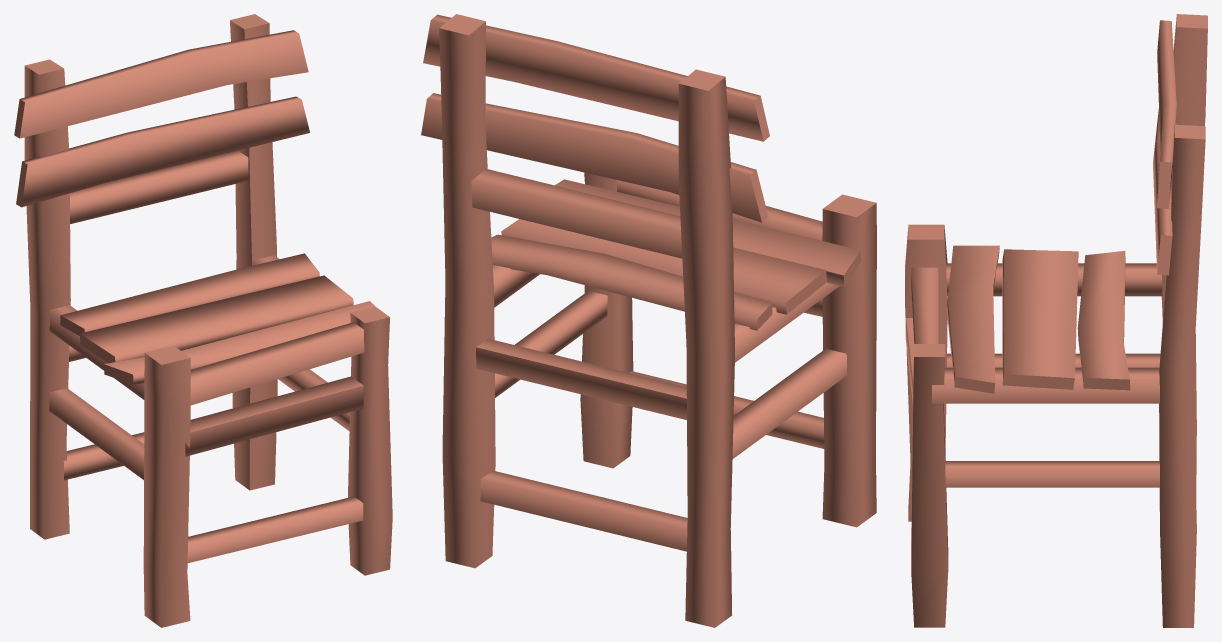
The model's file is chair_02.fbx.
The picture shows the model from 3 angles, left to right: view 1: azimuth 30°, elevation 25°; view 2: azimuth 150°, elevation 25°; view 3: azimuth 270°, elevation 25°; orthographic projection. The views are drawn at different scales.
Visible parts, largest first — view 1: Plane.048; view 2: Plane.048; view 3: Plane.048.
Part boxes in pixels (box(x1,y1,x2,y2)): Plane.048: box(14, 14, 392, 627); Plane.048: box(421, 14, 876, 627); Plane.048: box(905, 14, 1207, 627).
Bounding box in the file's own units: 0.706 × 1.07 × 0.5948.
